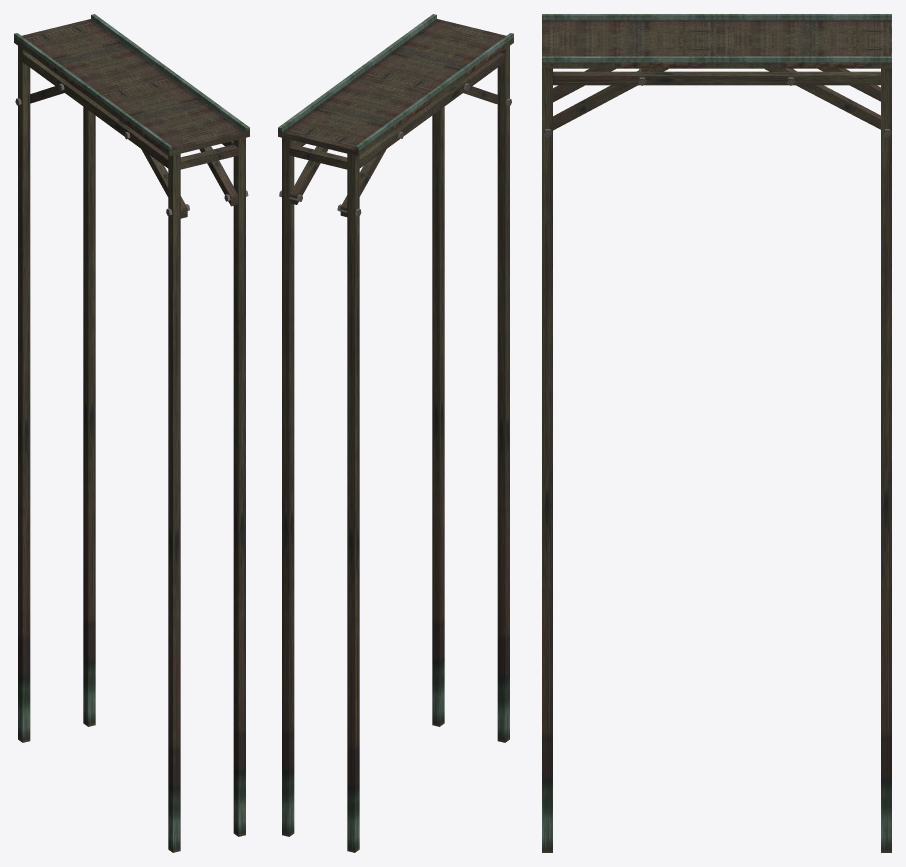
File: C1SMBDG3H.obj
The picture shows the model from 3 angles, left to right: view 1: azimuth 30°, elevation 25°; view 2: azimuth 150°, elevation 25°; view 3: azimuth 270°, elevation 25°; orthographic projection. The views are drawn at different scales.
Visible parts, largest first — view 1: Node 0; view 2: Node 0; view 3: Node 0.
Part boxes in pixels (left/top/right/bottom): Node 0: left=14, top=14, right=249, bottom=852; Node 0: left=278, top=14, right=513, bottom=852; Node 0: left=542, top=14, right=891, bottom=852.
Size of the model in its own units: 3 by 25.14 by 10.
2 materials, 2 textured.
